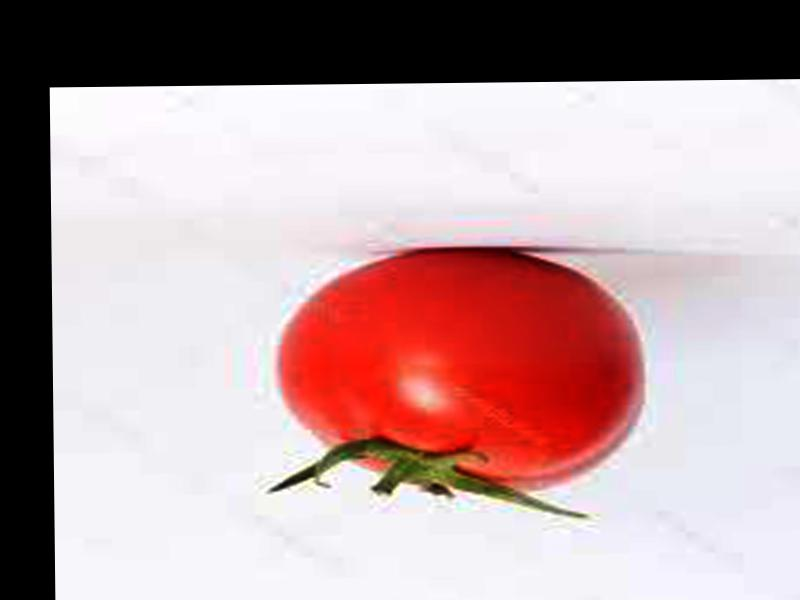Tomato: (278, 244, 650, 490)
